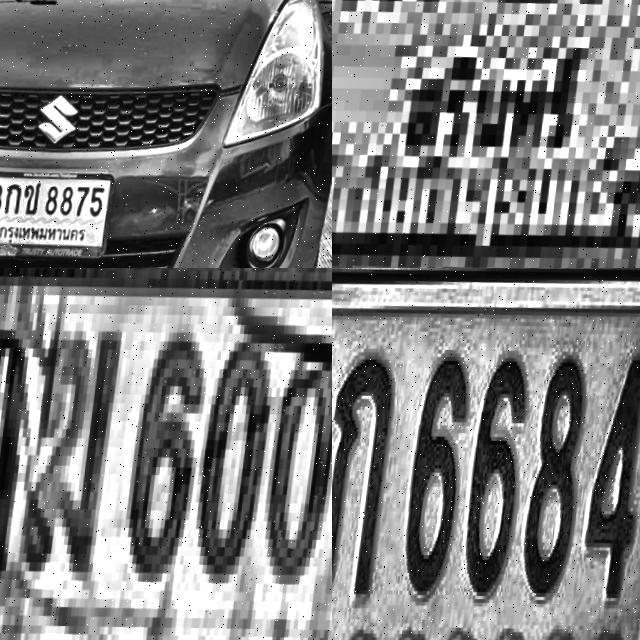license-plate: (0, 268, 332, 640), (332, 268, 640, 640), (332, 0, 640, 268), (0, 165, 124, 268)
